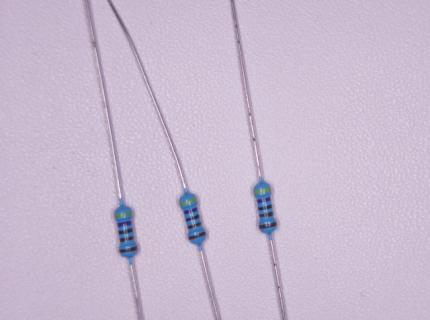Black band: (185, 214, 200, 222), (118, 228, 134, 235), (258, 204, 273, 210)
Brown band: (188, 231, 207, 240), (258, 222, 277, 229), (119, 246, 138, 253), (187, 222, 201, 229), (120, 236, 134, 242), (259, 212, 274, 217)
Violet band: (183, 206, 198, 215), (117, 220, 132, 228), (257, 197, 271, 203)
Yellow band: (180, 198, 197, 205), (114, 212, 132, 218), (254, 188, 272, 194)
